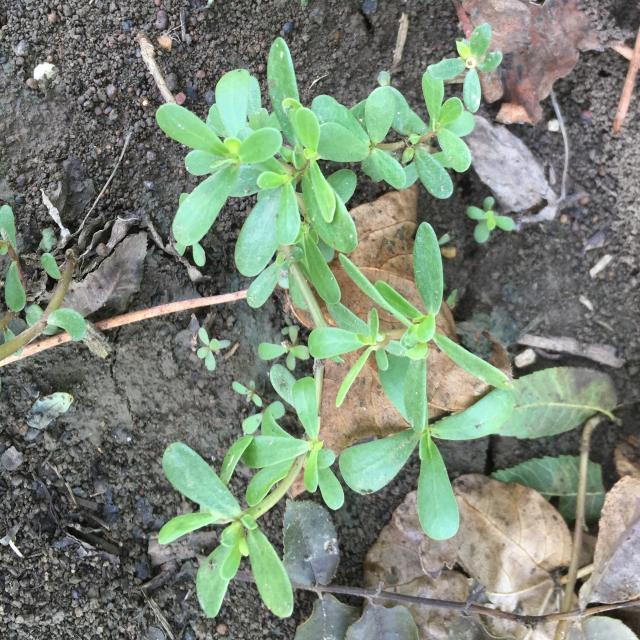Purslane: (156, 37, 515, 618), (1, 204, 88, 362), (426, 0, 503, 114), (466, 196, 514, 244), (197, 328, 231, 372)
